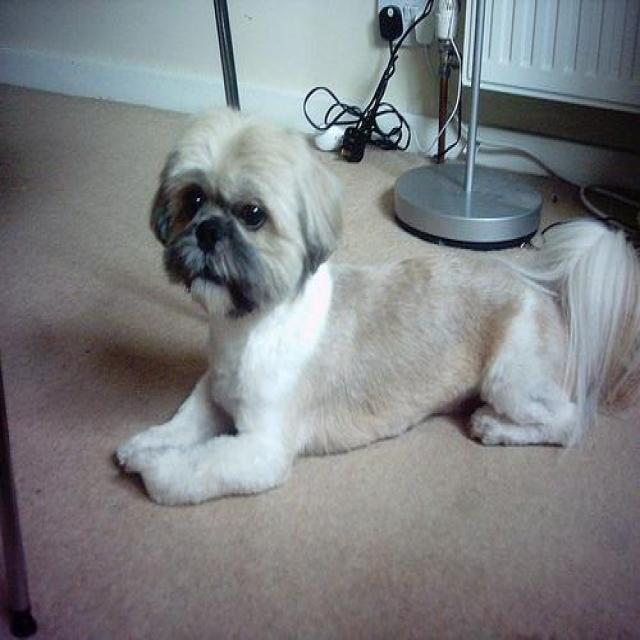shih_tzu: (110, 108, 638, 505)
